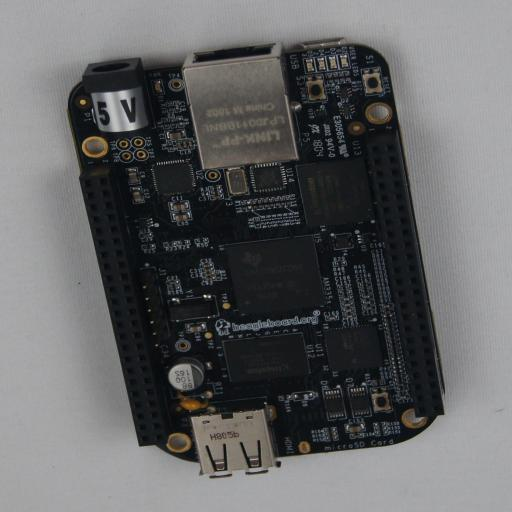Beaglebone Black: (67, 38, 445, 478)
